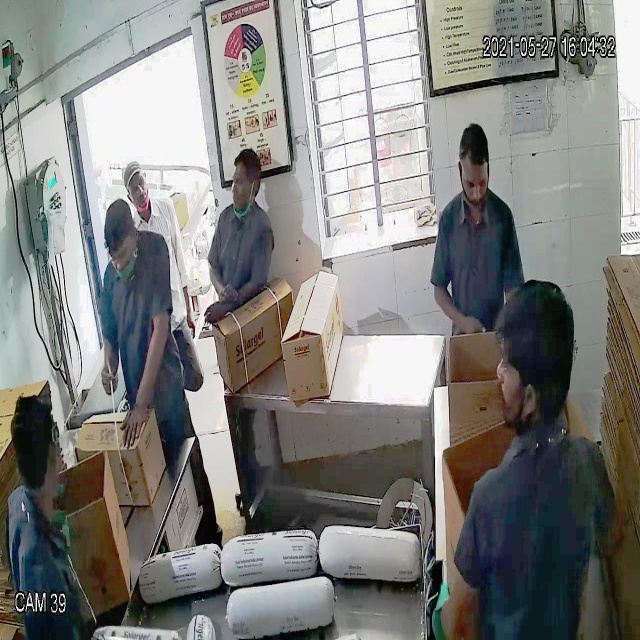Sin_gafas: (454, 162, 497, 205), (125, 169, 152, 205)
